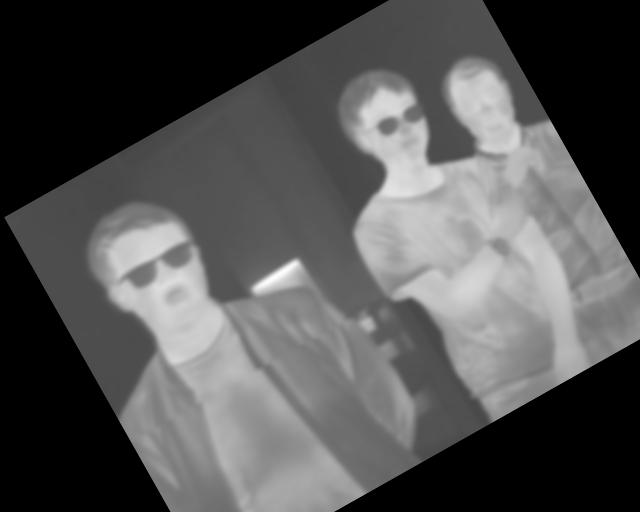face: (69, 179, 231, 354), (322, 51, 448, 188), (428, 41, 535, 160)
